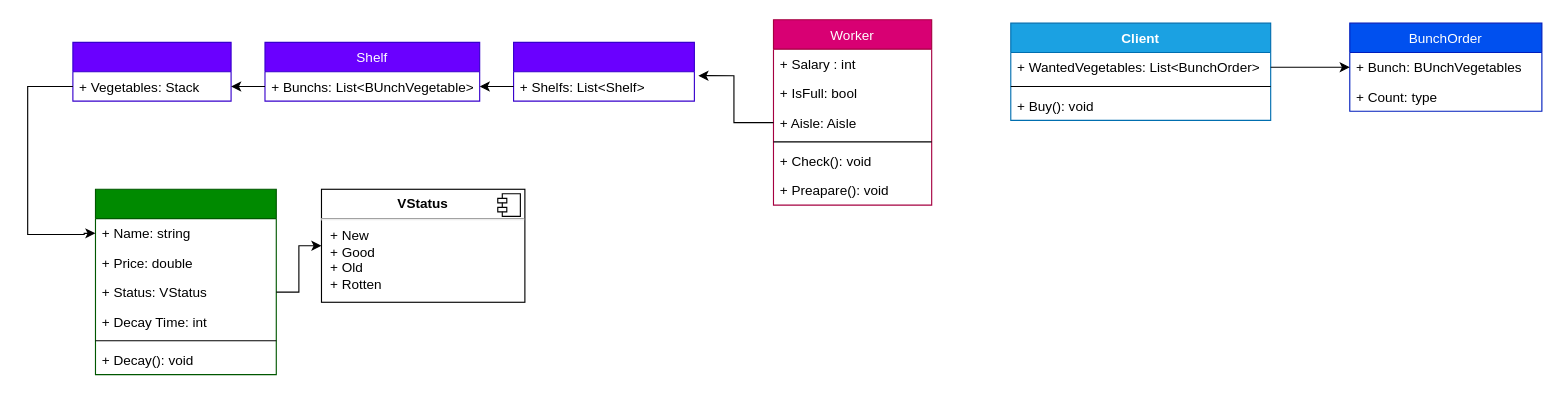
This 1562x398 diagram has some shape labels left out. The box of each missing label's shape, as (x1, y1, x2, y2) in pixels:
Aisle: (512, 41, 694, 101)
BunchVegetables: (72, 41, 231, 101)
Vegetable: (94, 188, 276, 375)
